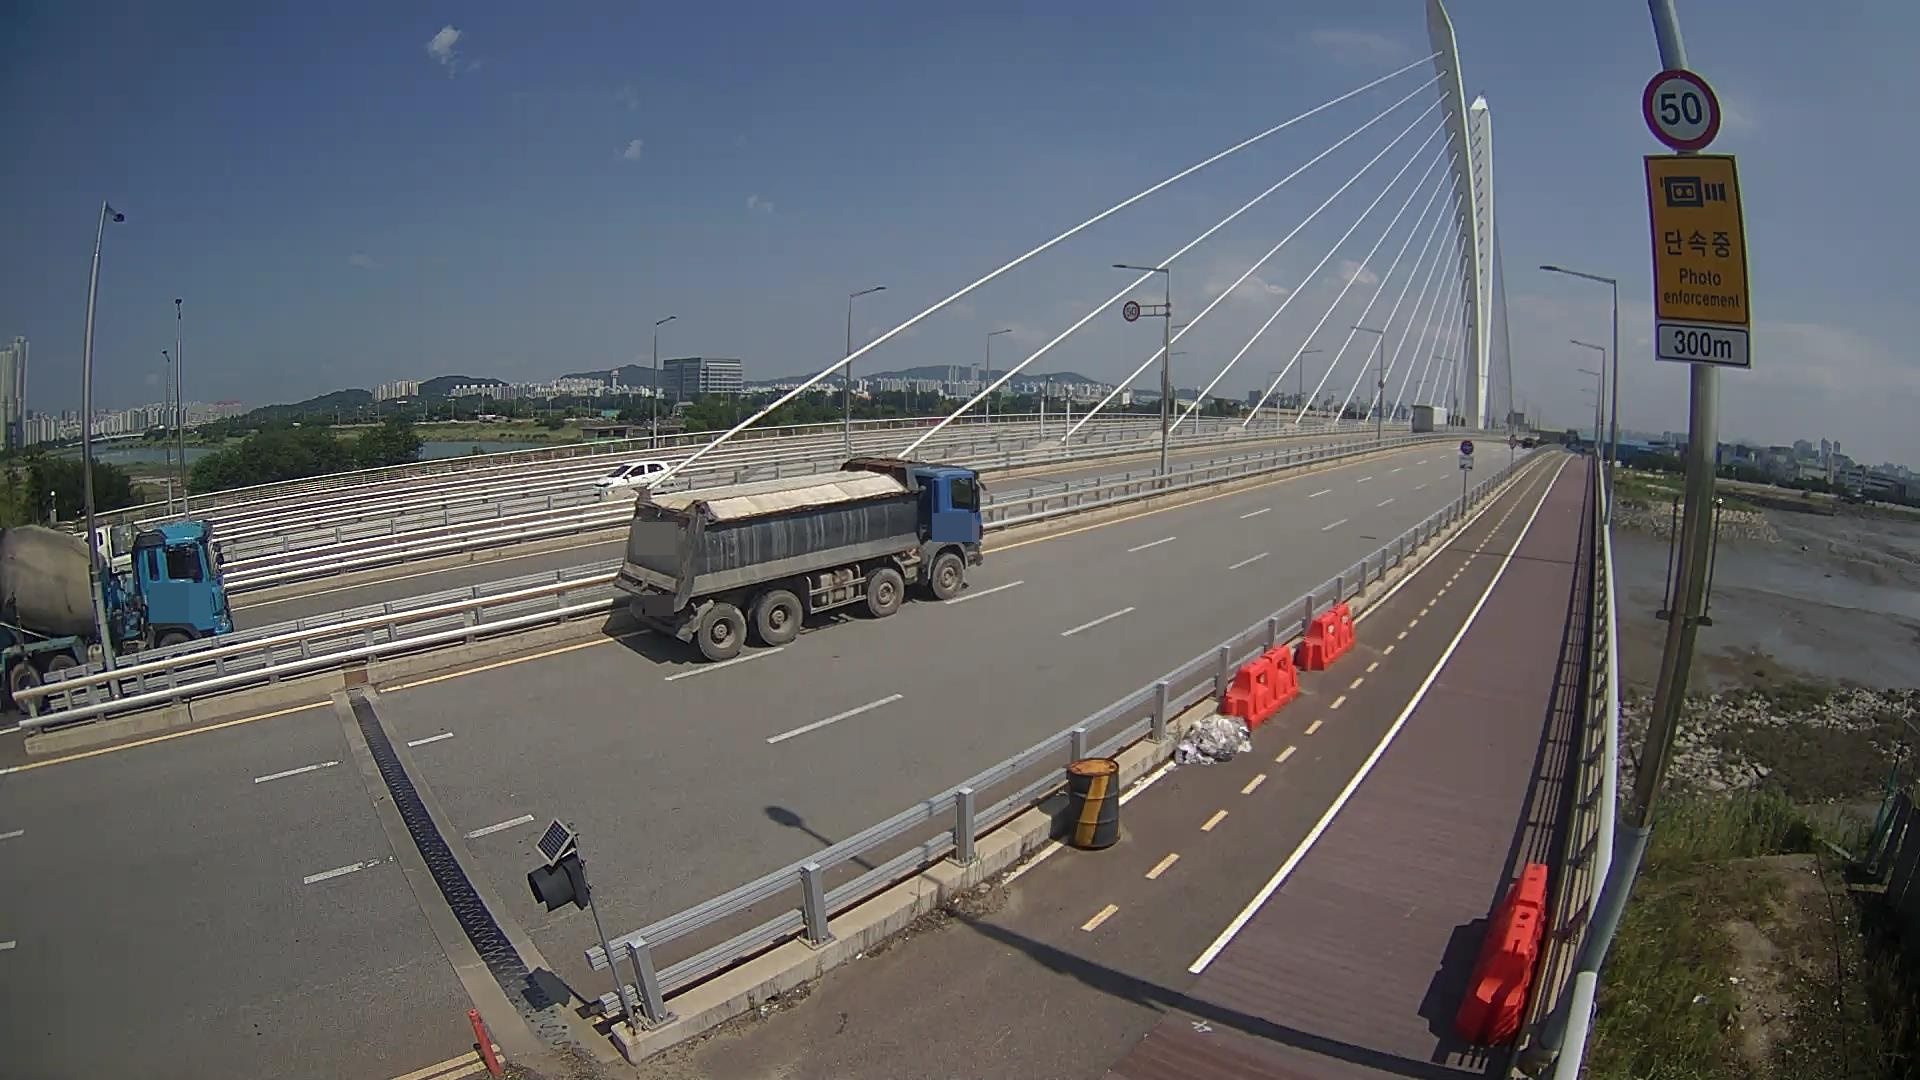정상차량: (613, 458, 986, 659)
